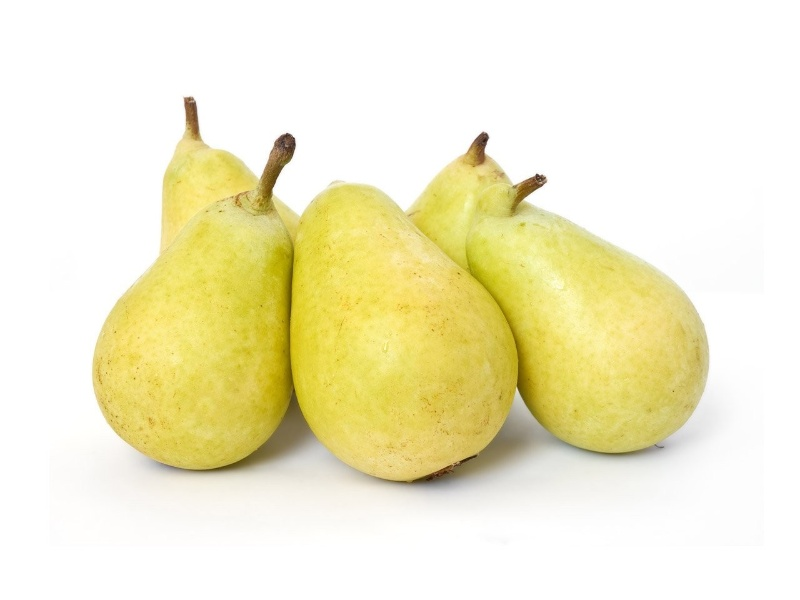Pera: (290, 175, 521, 480), (91, 134, 299, 470), (468, 175, 710, 454), (165, 99, 310, 413), (408, 132, 532, 282)
